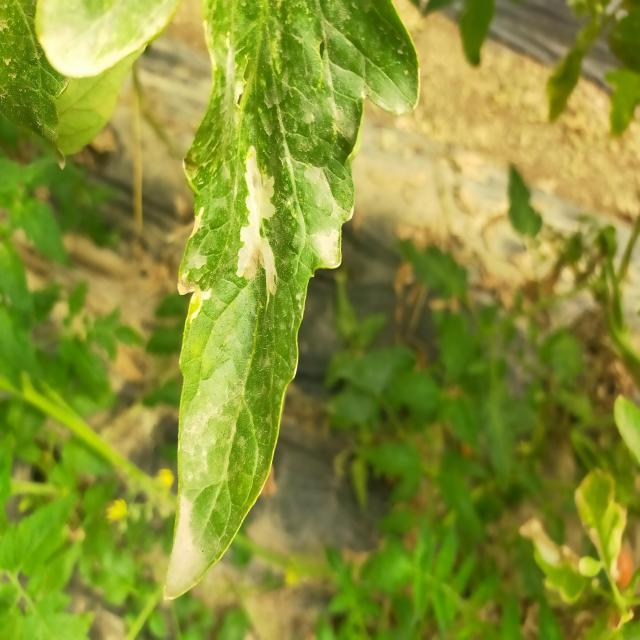Tuta absoluta: (234, 143, 288, 304)
